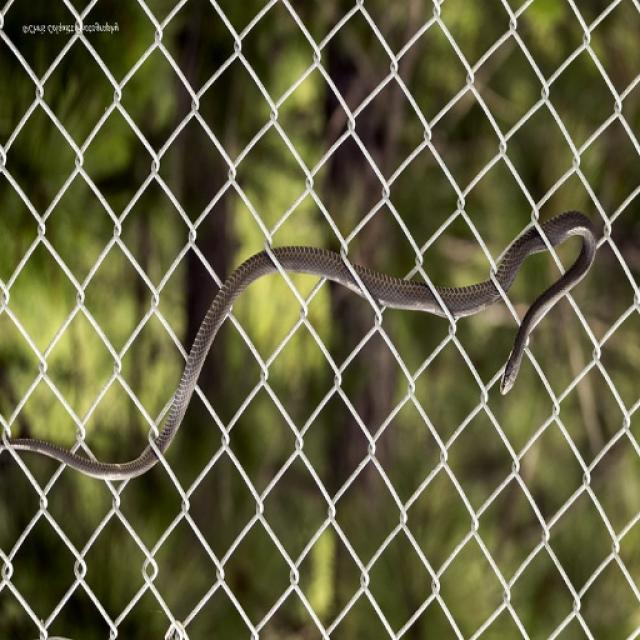snake: (0, 180, 614, 489)
